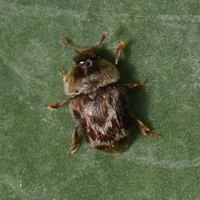insect: (46, 32, 158, 154)
